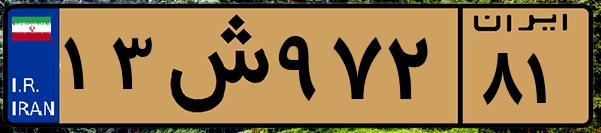1: (57, 26, 110, 100), (525, 38, 570, 115)
2: (385, 28, 445, 110)
3: (110, 28, 158, 98)
7: (330, 28, 385, 110)
8: (475, 38, 525, 113)
9: (270, 28, 330, 110)
ش: (158, 12, 270, 120)
